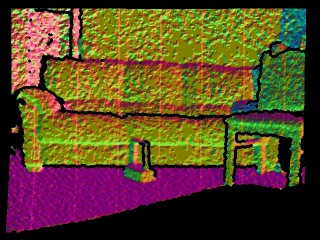station: (124, 139, 156, 184)
